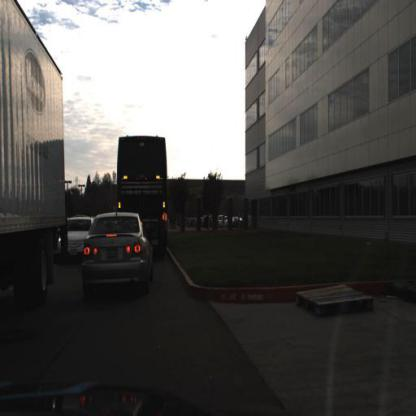car: (79, 210, 155, 285), (63, 209, 96, 252), (215, 210, 230, 229)
truck: (1, 2, 69, 296), (114, 133, 171, 251)
